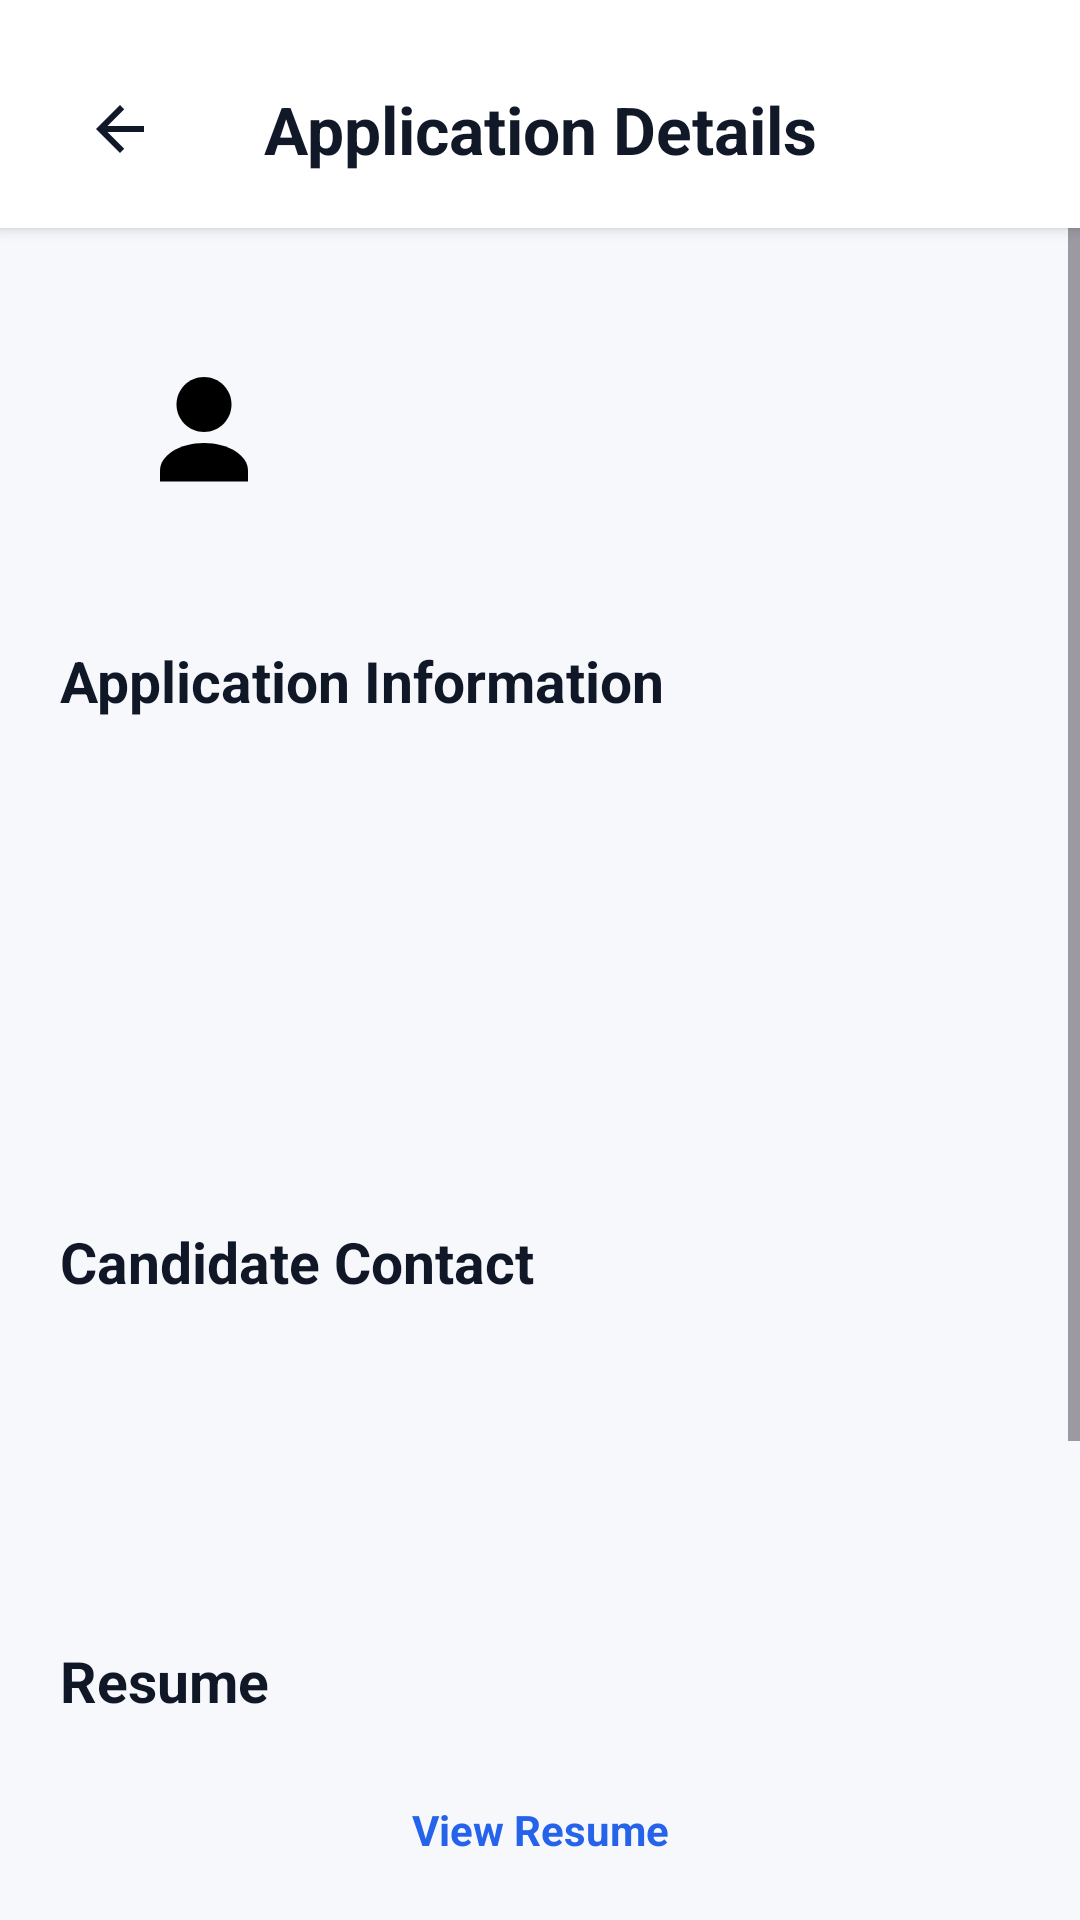

Named icons in this screenshot (1080 × 1920) and their bounding boxes, bbox=(x1, y1, x2, y2):
Back: bbox=(96, 105, 144, 153)
Candidate: bbox=(160, 377, 248, 482)
